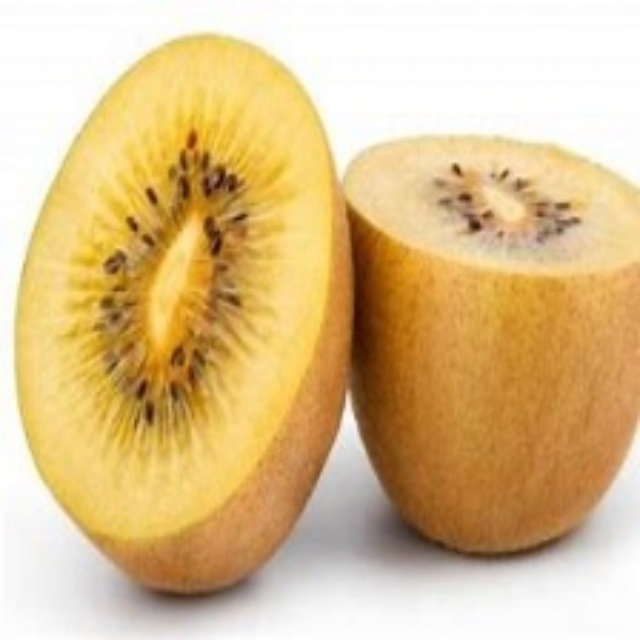kiwi: (19, 31, 351, 597), (335, 132, 639, 555)
